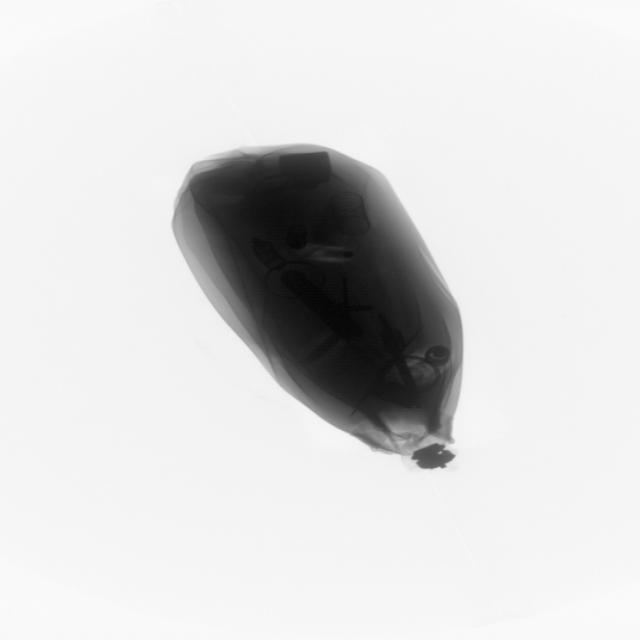GUN: (283, 257, 357, 350)
